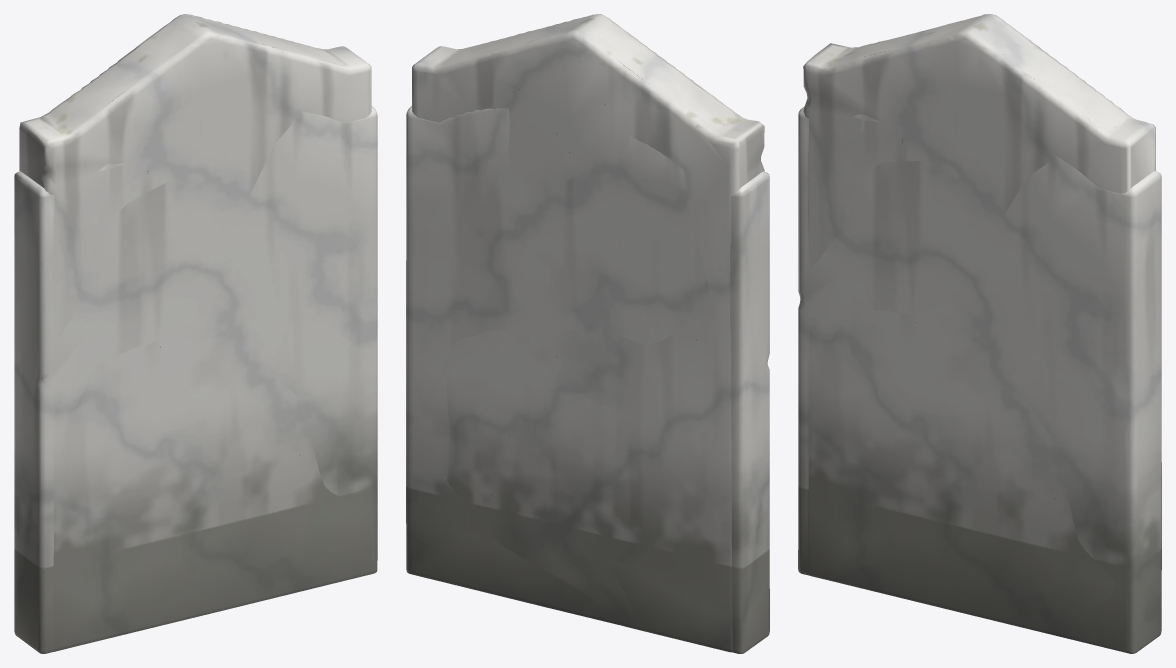
Rendered from midShoulder.glb.
The picture shows the model from 3 angles, left to right: view 1: azimuth 30°, elevation 25°; view 2: azimuth 150°, elevation 25°; view 3: azimuth 330°, elevation 25°; orthographic projection.
Visible parts, largest first — view 1: midShoulder_b, midShoulder_a; view 2: midShoulder_b, midShoulder_a; view 3: midShoulder_b, midShoulder_a.
Boxes of the visible parts, x1,y1,x2,y2 form: midShoulder_b: [19, 14, 371, 651]; midShoulder_a: [14, 106, 377, 653]; midShoulder_b: [412, 14, 764, 652]; midShoulder_a: [406, 106, 769, 653]; midShoulder_b: [803, 14, 1155, 614]; midShoulder_a: [798, 106, 1161, 653].
Size of the model in its own units: 0.6008 by 0.9848 by 0.0915.
2 materials, 2 textured.
